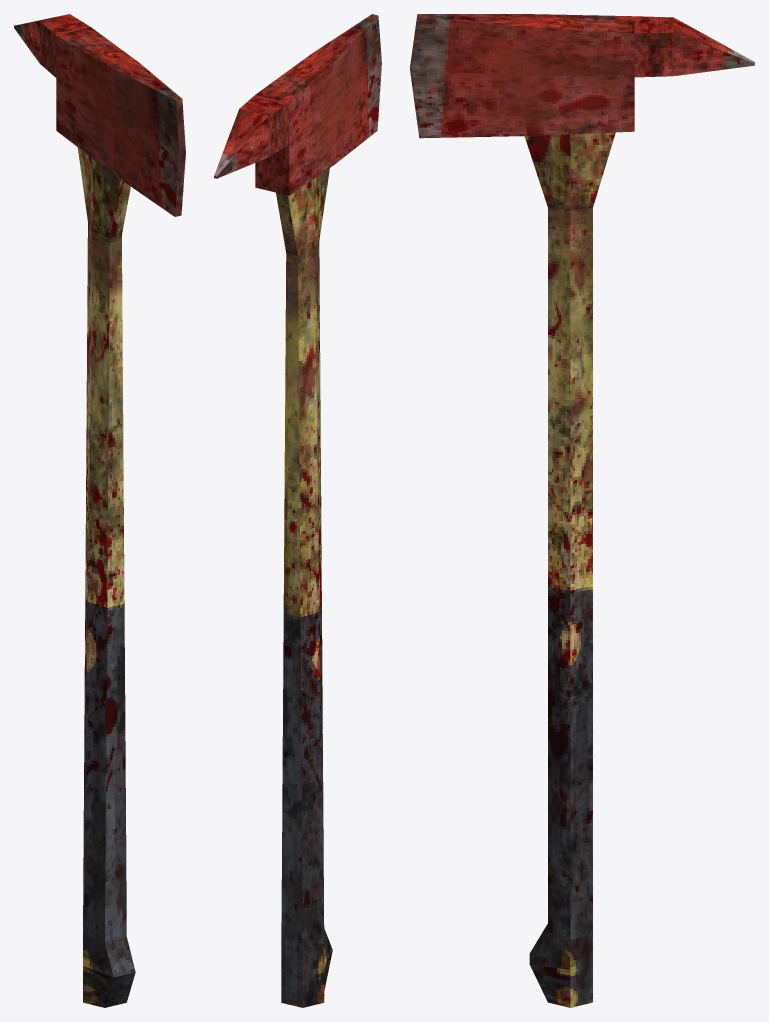
The model's file is PSX_Bloody_Fire_Axe.glb.
3 renders of one model, left to right at view 1: azimuth 30°, elevation 25°; view 2: azimuth 150°, elevation 25°; view 3: azimuth 270°, elevation 25°, orthographic. The views are drawn at different scales.
Visible parts, largest first — view 1: SM_FireAxe; view 2: SM_FireAxe; view 3: SM_FireAxe.
Boxes of the visible parts, x1,y1,x2,y2 form: SM_FireAxe: [14, 14, 185, 1007]; SM_FireAxe: [214, 14, 381, 1007]; SM_FireAxe: [410, 14, 754, 1007].
Bounding box in the file's own units: 0.0454 × 0.9437 × 0.3006.
1 material, 1 textured.
